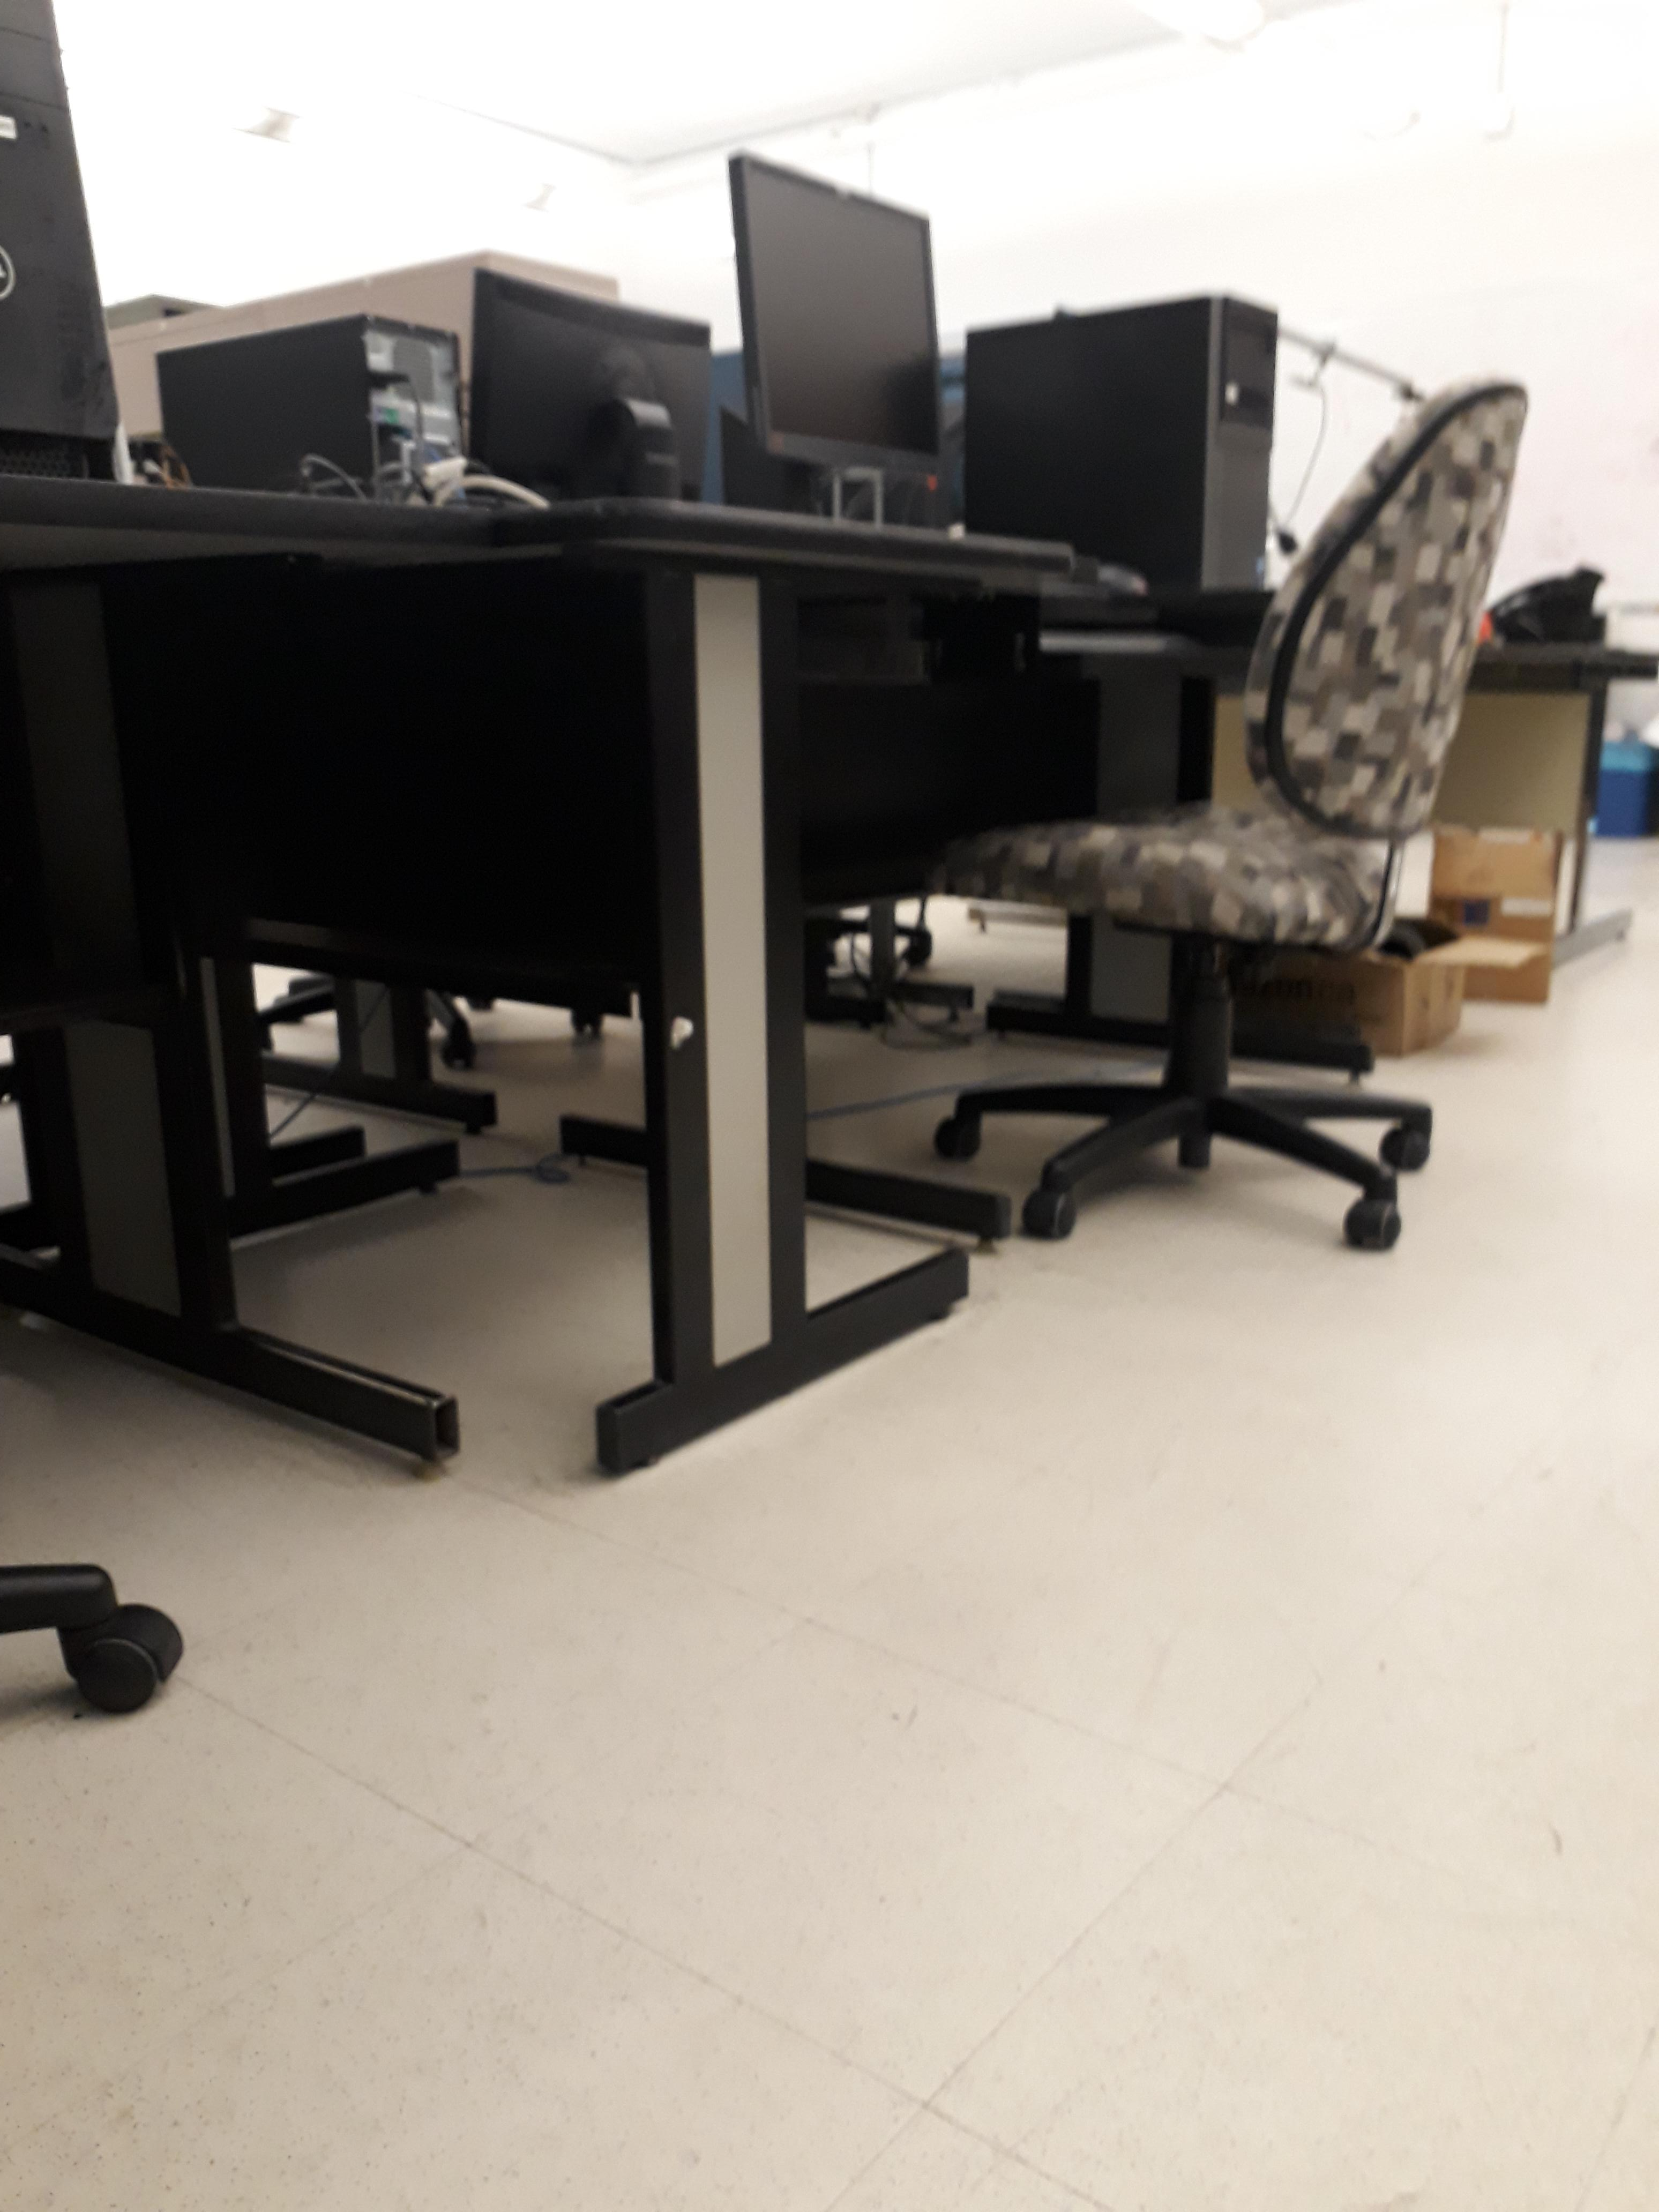tvmonitor: (739, 157, 943, 472), (474, 272, 708, 503)
